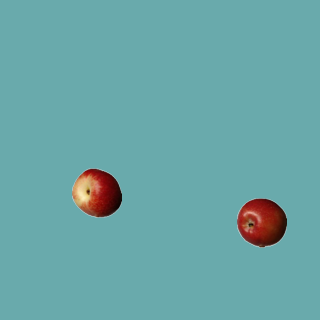Apple Braeburn: (236, 197, 286, 247)
Nectarine: (71, 167, 121, 217)
